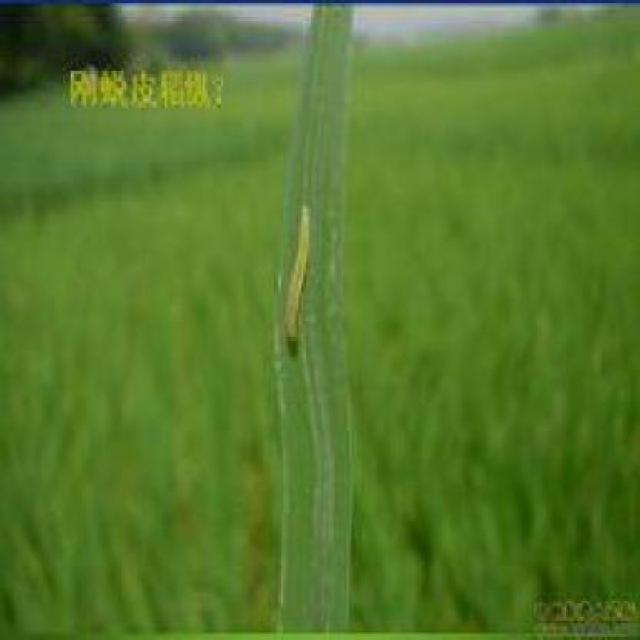leaf-folder: (276, 181, 324, 356)
